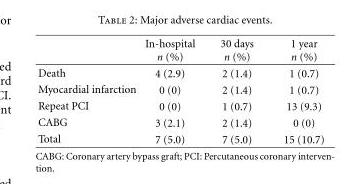table: (37, 37, 323, 144)
table column: (37, 37, 139, 144), (139, 37, 206, 144), (206, 37, 267, 144), (267, 37, 323, 144)
table column header: (37, 37, 323, 64)
table row: (37, 37, 323, 64), (37, 64, 323, 81), (37, 113, 323, 130), (37, 81, 323, 97), (37, 97, 323, 113), (37, 130, 323, 144)
